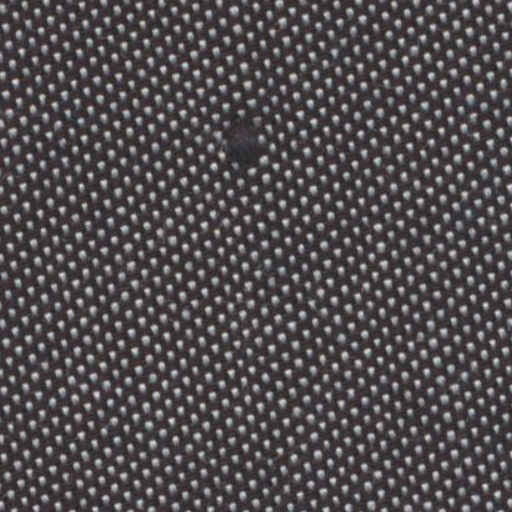MianQiu: (201, 95, 288, 182)
